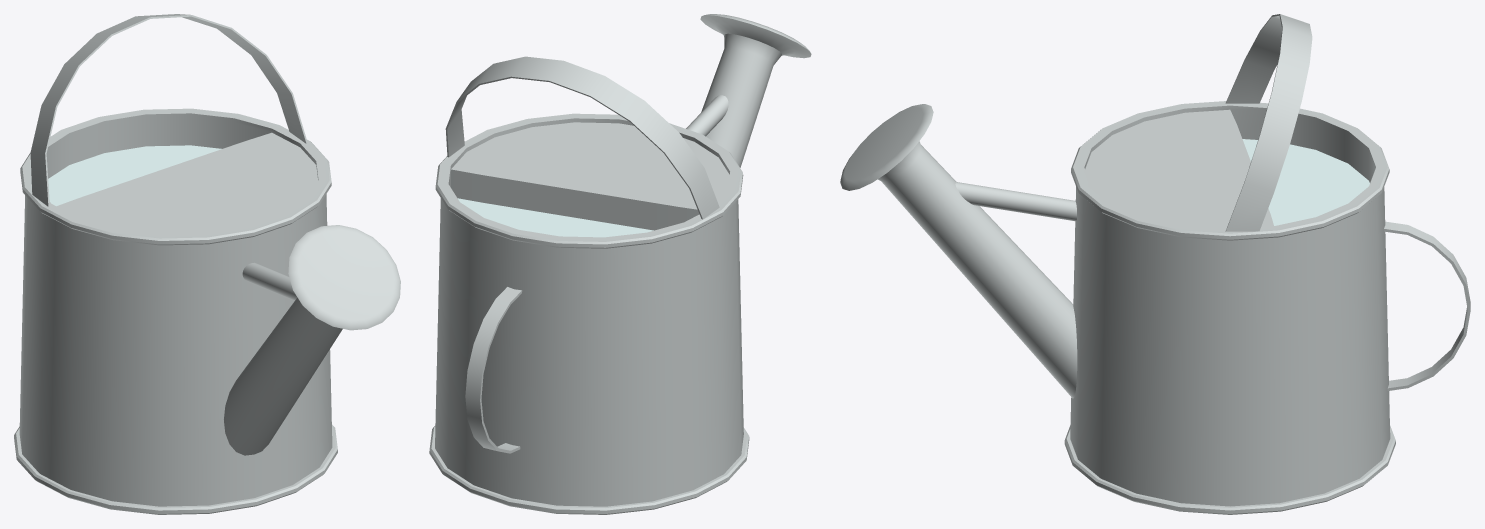
Rendered from WateringCan.fbx.
3 renders of one model, left to right at view 1: azimuth 30°, elevation 25°; view 2: azimuth 150°, elevation 25°; view 3: azimuth 270°, elevation 25°, orthographic. The views are drawn at different scales.
Parts seen in each view (by area): view 1: Barrel, Spout, TopHandle, Water, SpoutHolder; view 2: Barrel, TopHandle, Spout, Water, BackHandle, SpoutHolder; view 3: Barrel, Spout, TopHandle, Water, SpoutHolder, BackHandle.
Part boxes in pixels (x1=…): Barrel: x1=14, y1=108, x2=337, y2=514; Spout: x1=224, y1=225, x2=400, y2=455; TopHandle: x1=30, y1=14, x2=307, y2=206; Water: x1=48, y1=145, x2=221, y2=206; SpoutHolder: x1=242, y1=262, x2=297, y2=300; Barrel: x1=429, y1=113, x2=749, y2=514; TopHandle: x1=445, y1=56, x2=719, y2=219; Spout: x1=700, y1=14, x2=811, y2=167; Water: x1=458, y1=198, x2=653, y2=237; BackHandle: x1=465, y1=287, x2=522, y2=453; SpoutHolder: x1=686, y1=95, x2=728, y2=136; Barrel: x1=1064, y1=101, x2=1395, y2=514; Spout: x1=840, y1=104, x2=1077, y2=398; TopHandle: x1=1225, y1=14, x2=1312, y2=231; Water: x1=1242, y1=139, x2=1369, y2=225; SpoutHolder: x1=955, y1=182, x2=1076, y2=221; BackHandle: x1=1384, y1=221, x2=1470, y2=390.
Size of the model in its own units: 31.06 by 43.27 by 59.09.
